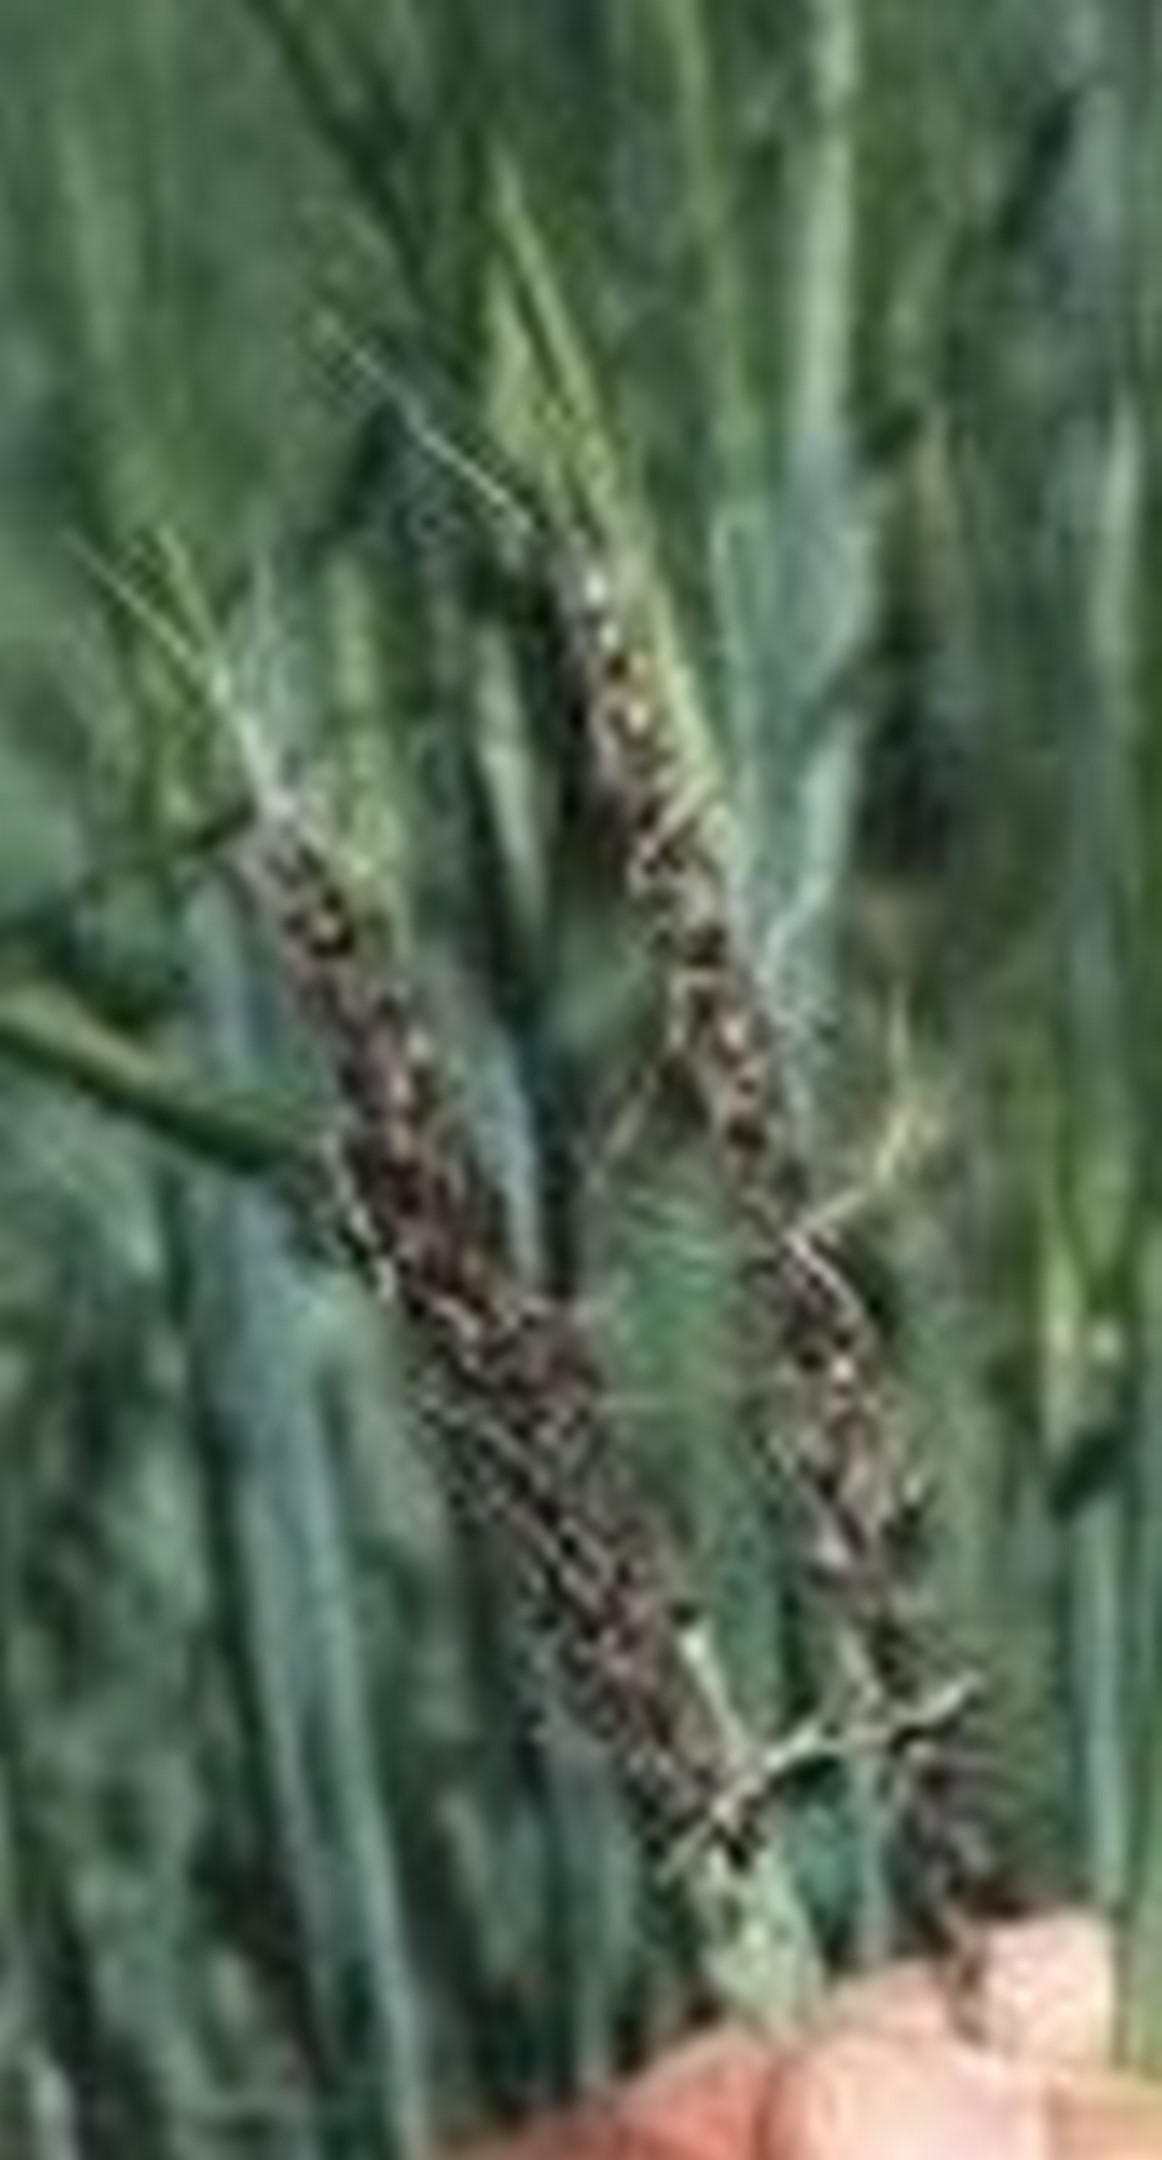Wheat Loose Smut: (236, 798, 1037, 1868)
